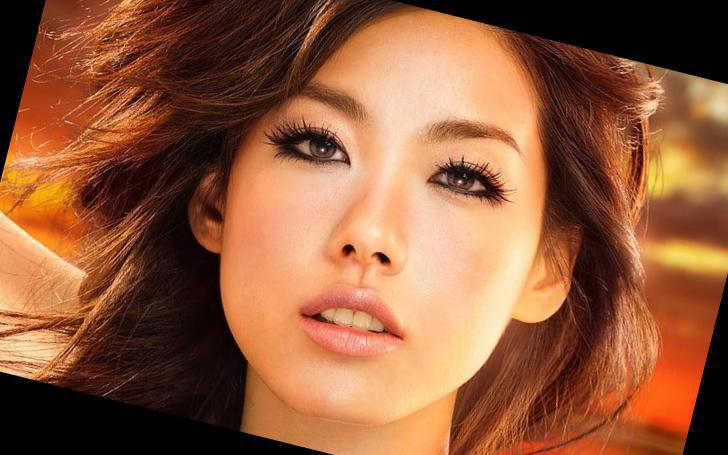Sober: (239, 34, 523, 392)
